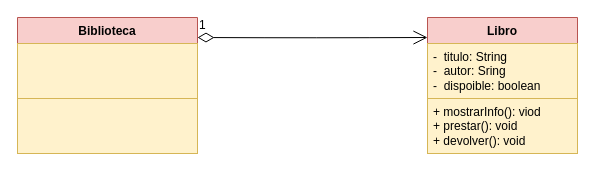
The diagram is 595 pixels wide and 174 high, and some of its shapes have lost their labels. The shapes that lost their labels are listed below. From the top down, each one's centre as x and y in pixels, then its label:
At point (107, 70): "- nombre: String - catalogo: Libro - catidad: int".
At point (107, 126): "+ agregarLibro(): viod + mostrarCatalogo(): void + buscarAutor(): void".
